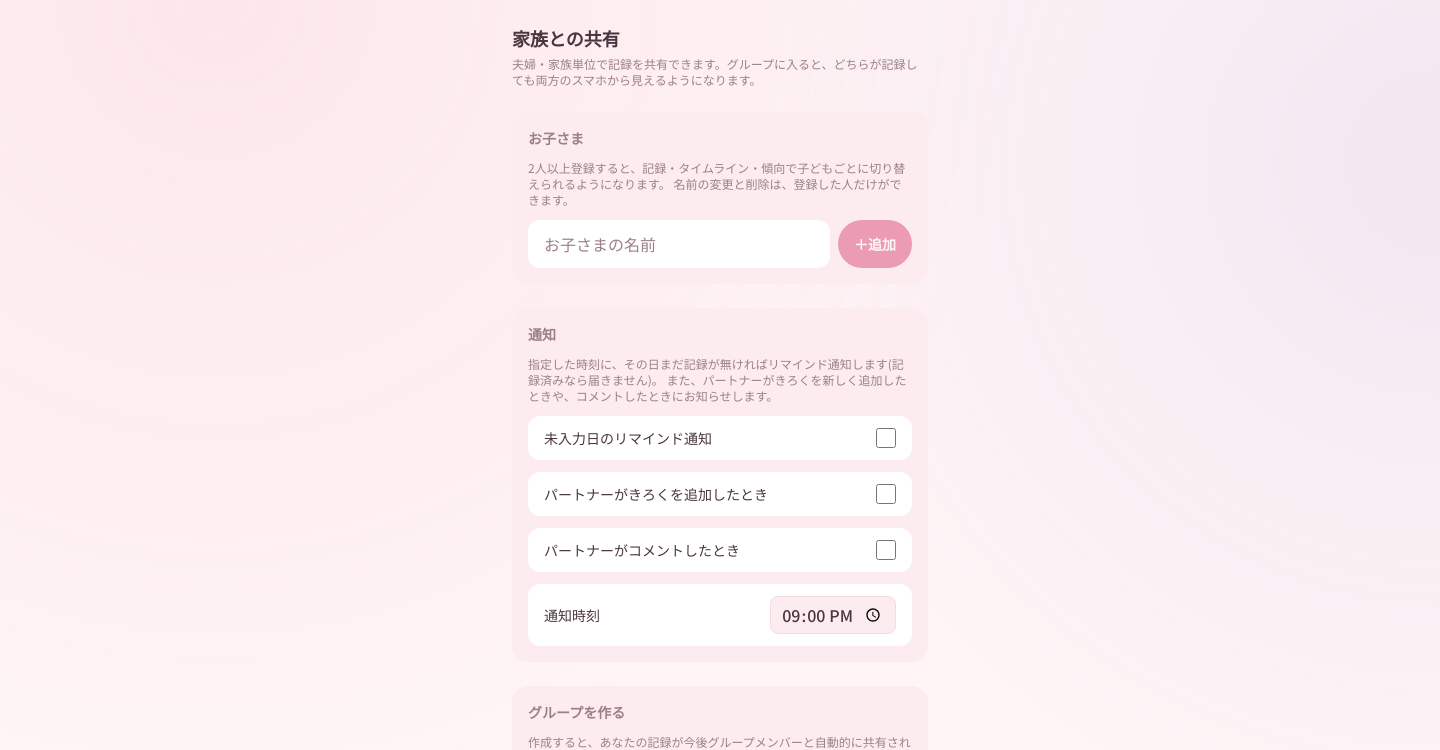
it: GroupPage: お子さま › 追加すると一覧に反映され、入力欄が空に戻る
In the field with placeholder "お子さまの名前": (679, 244) [528,220,830,268], type "はなこ"
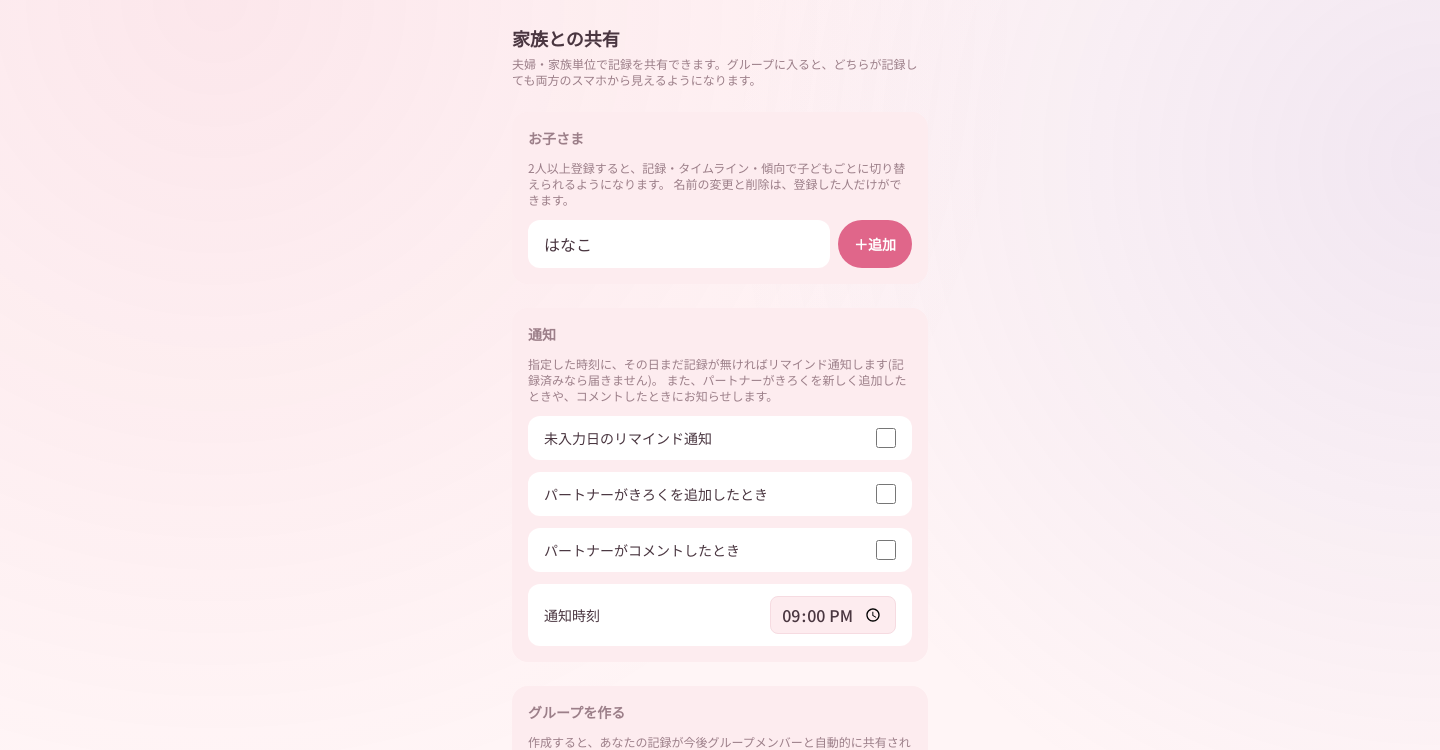
Click the button "＋追加": (875, 244) [838,220,912,268]
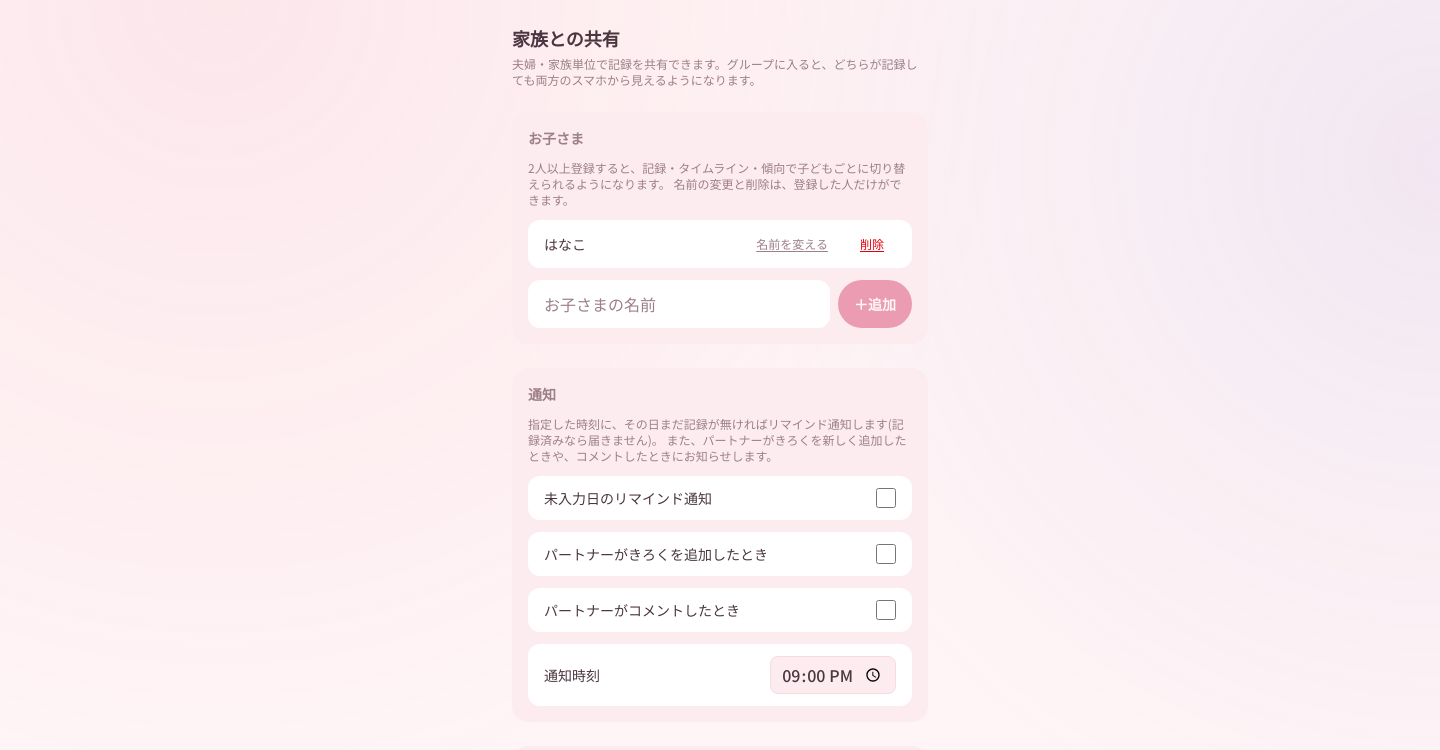
Result: the text "はなこ" is shown at [544,234,586,254]
Result: the field with placeholder "お子さまの名前" is empty at [528,280,830,328]
